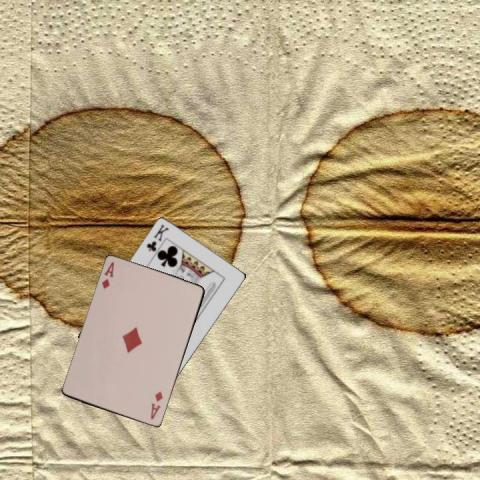Ad: (147, 389, 164, 421), (99, 259, 115, 291)
Kc: (143, 221, 170, 253)
